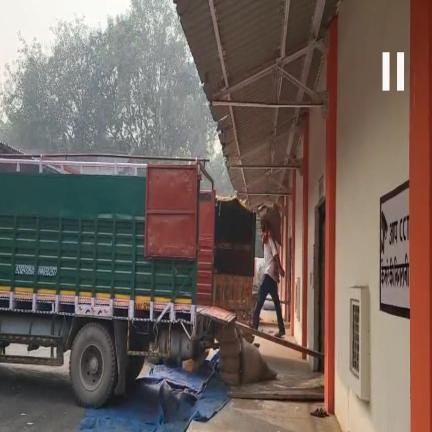Zone-Counting: (252, 206, 285, 337)
